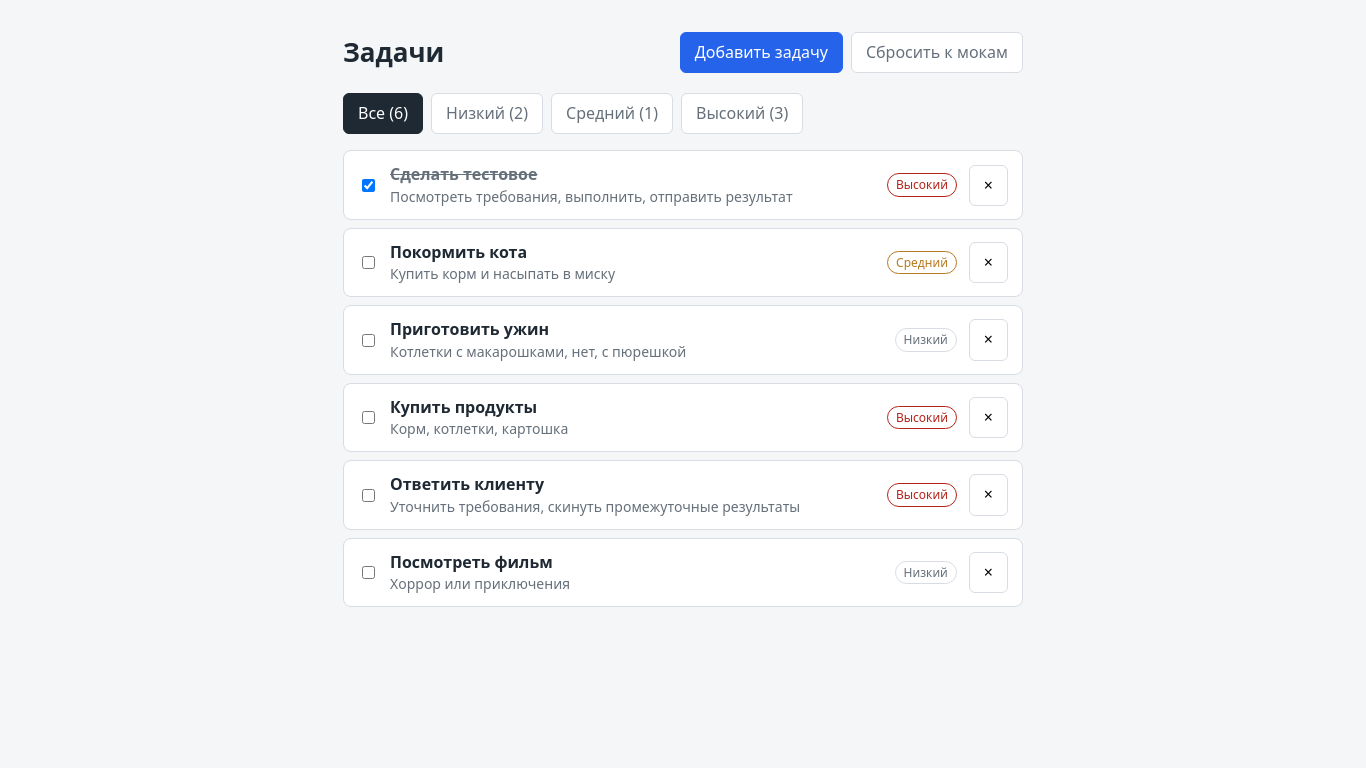
Scenario: App › не добавляет задачу, если форма невалидна
The width and height of the screenshot is (1366, 768).
Click the button "Добавить задачу".
click(761, 53)  # box top-left (680, 32), bottom-right (843, 73)
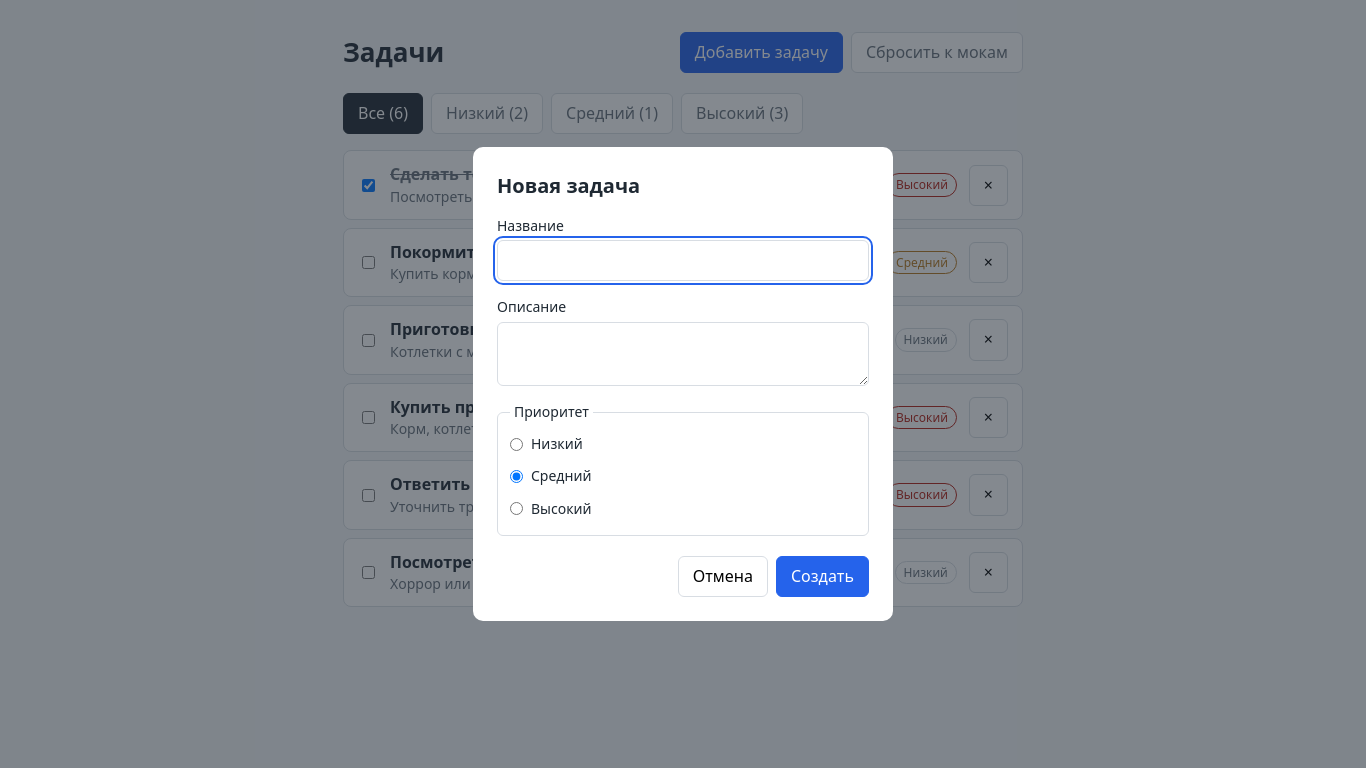
Click the button "Создать".
click(822, 577)  # box top-left (776, 556), bottom-right (869, 597)
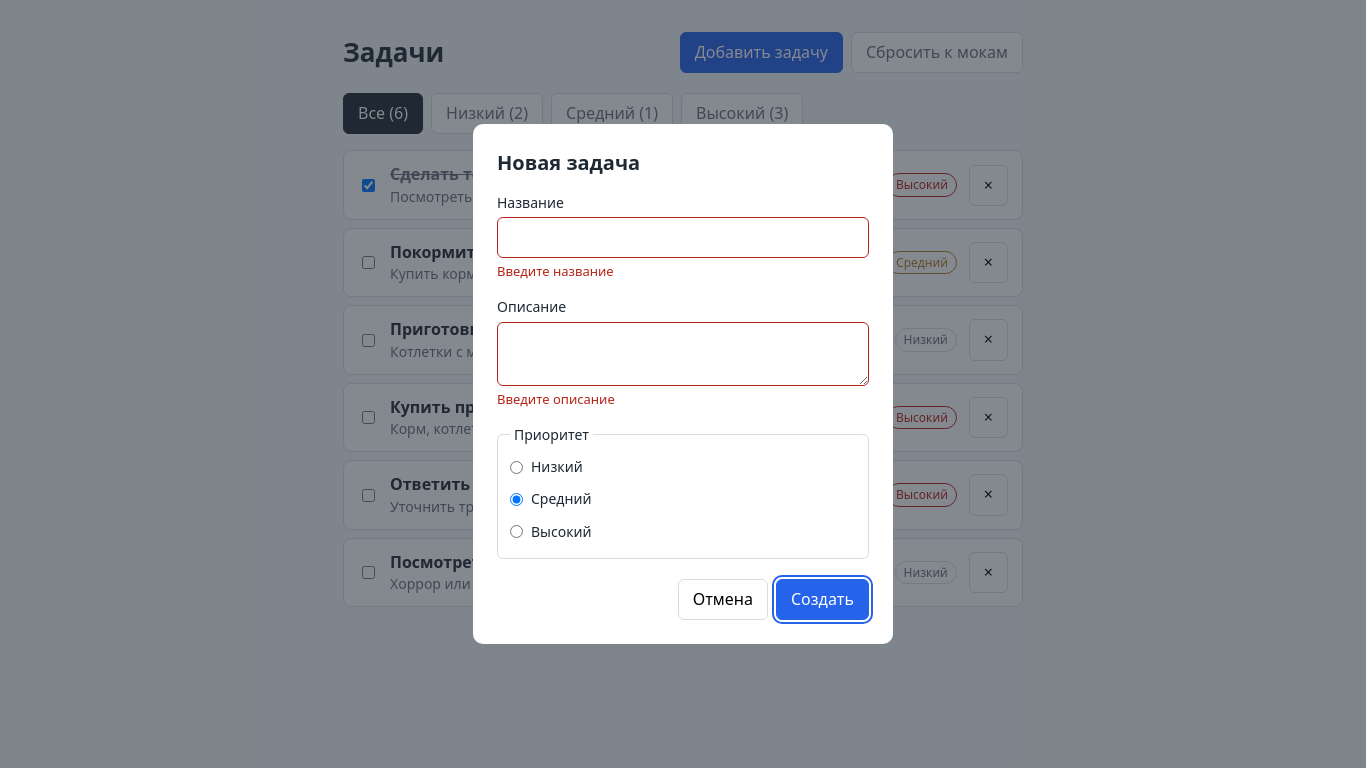
expect the number of list items is 6: met, box top-left (343, 150), bottom-right (1023, 220); top-left (343, 228), bottom-right (1023, 297); top-left (343, 305), bottom-right (1023, 375); top-left (343, 383), bottom-right (1023, 452); top-left (343, 460), bottom-right (1023, 530); top-left (343, 538), bottom-right (1023, 607)
expect the text "Введите название" is shown: met, box top-left (497, 262), bottom-right (614, 280)
